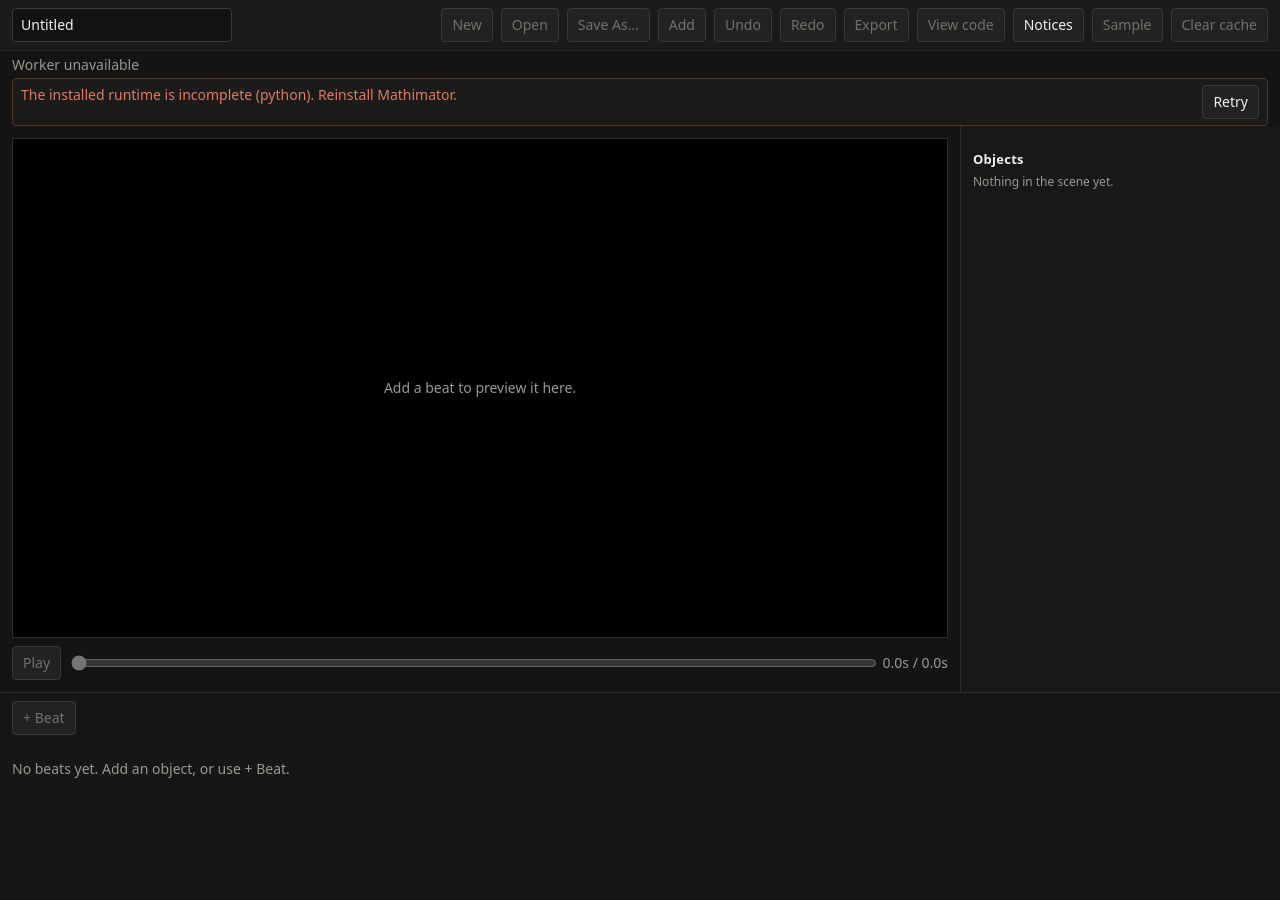
Scenario: App › shows Worker unavailable with the reason, disables editing, and Retry restarts the worker
Expected: the text with test id "status" reads "Worker unavailable", [12,55,139,74]
Expected: the text with test id "unavailable-reason" reads "The installed runtime is incomplete (python). Reinstall Mathimator.", [21,85,457,104]
Click the button with test id "retry-worker".
click(1231, 102)  # box [1202,85,1259,119]
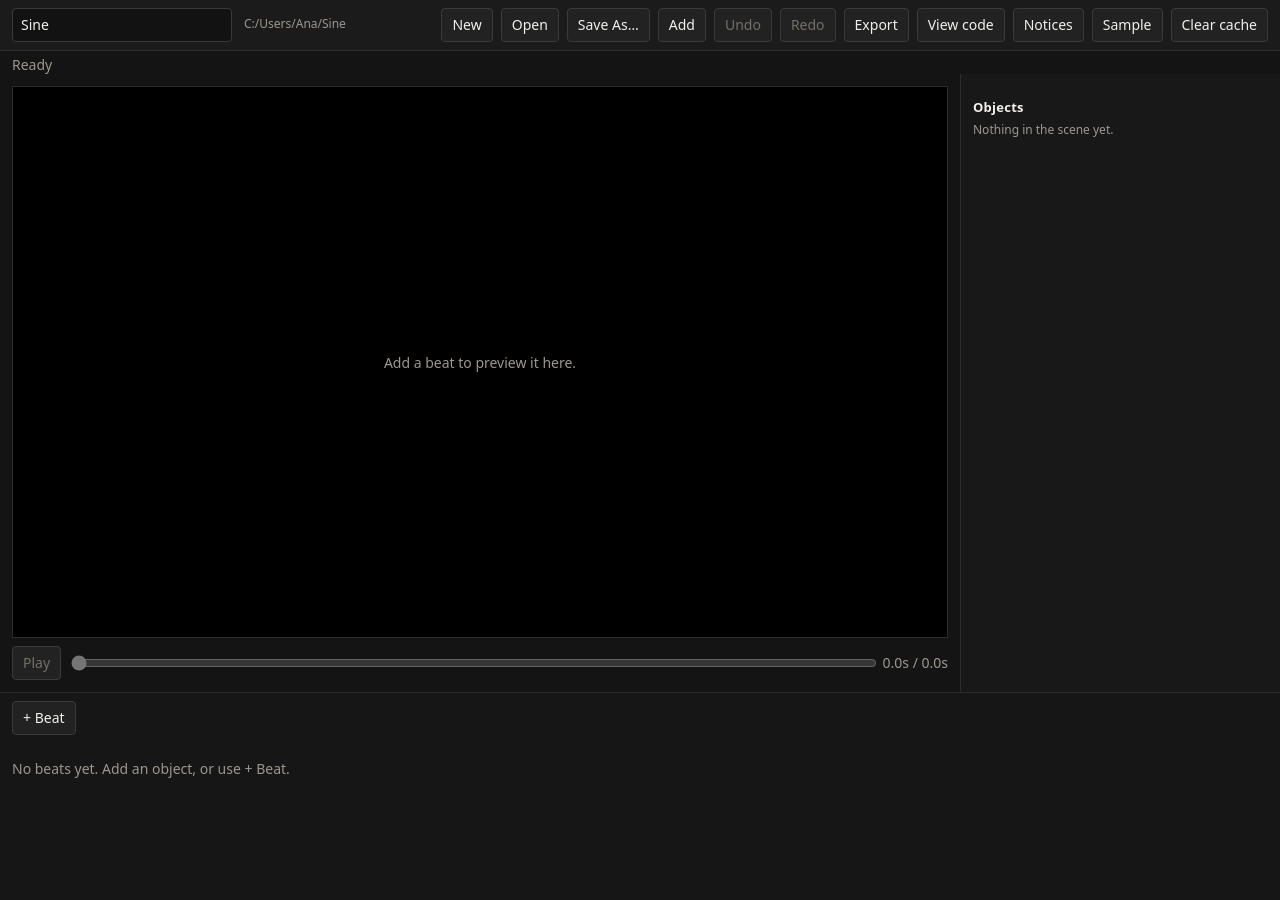
Result: the text with test id "status" reads "Ready" at [12,55,52,74]
Result: the message with test id "worker-unavailable" is gone
Result: the button with test id "open-button" is enabled at [501,8,559,42]
